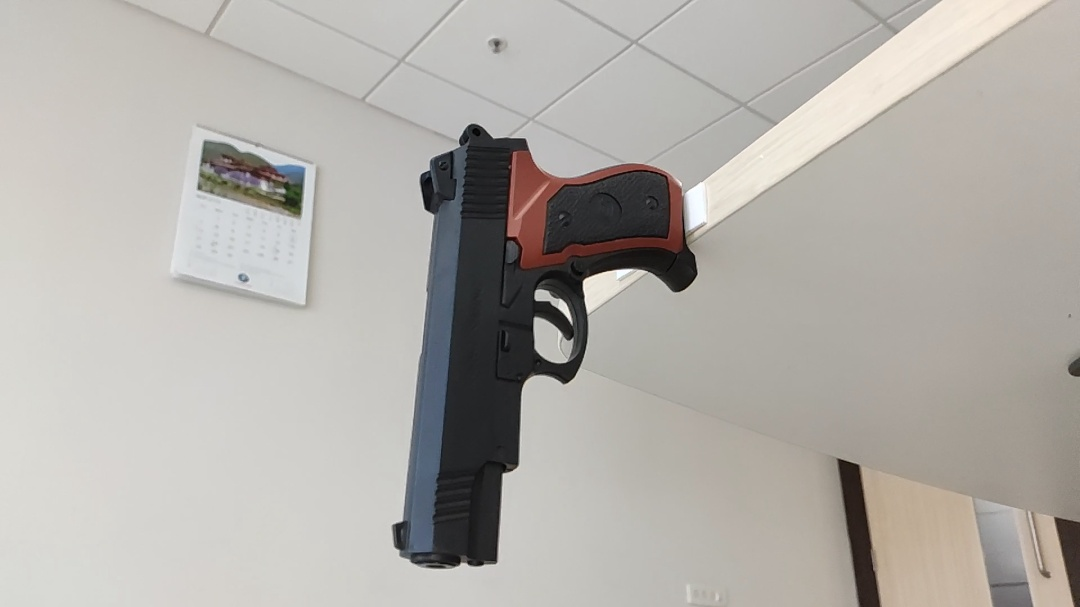gun: (384, 121, 702, 578)
